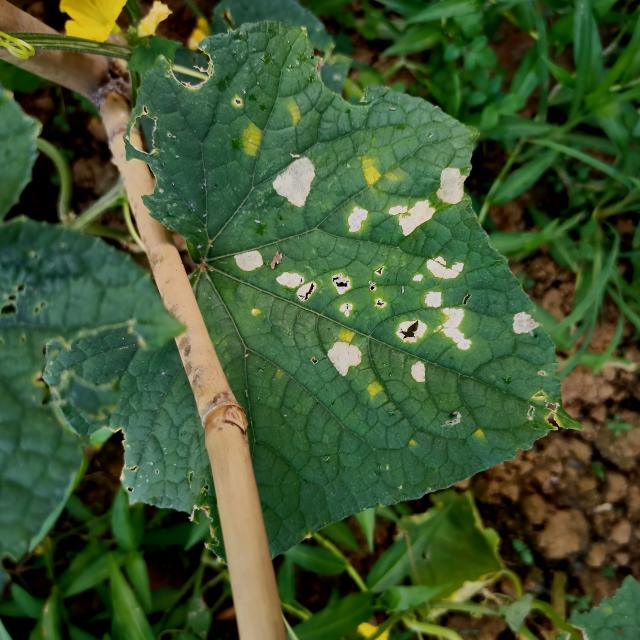disease_cucumber: (220, 249, 490, 384), (389, 163, 469, 243), (266, 149, 326, 215), (357, 152, 407, 188), (500, 309, 546, 340), (236, 120, 269, 159), (343, 205, 372, 237), (280, 94, 304, 132), (360, 377, 387, 399), (335, 325, 358, 342)
